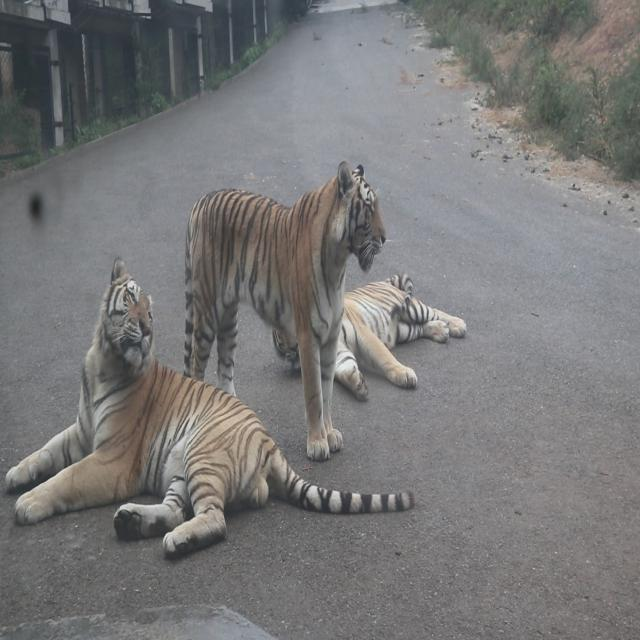Tiger: (7, 263, 411, 563), (176, 151, 394, 474), (326, 262, 469, 413)
